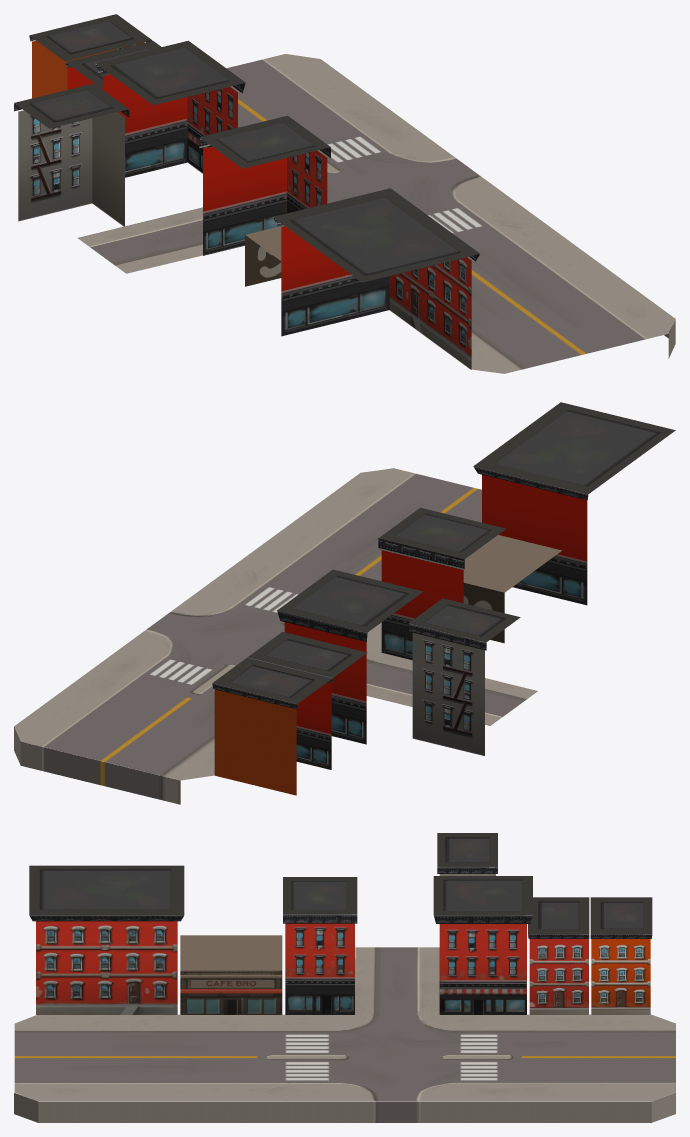
File: building_new.fbx
The picture shows the model from 3 angles, top to bottom: view 1: azimuth 30°, elevation 25°; view 2: azimuth 150°, elevation 25°; view 3: azimuth 270°, elevation 25°; orthographic projection. The views are drawn at different scales.
Visible parts, largest first — view 1: Box020, Plane001; view 2: Box020, Plane001, Plane002; view 3: Box020, Plane001, Plane002.
Part boxes in pixels (left/top/right/bottom): Box020: left=14, top=14, right=479, bottom=369; Plane001: left=78, top=54, right=675, bottom=373; Box020: left=212, top=402, right=675, bottom=795; Plane001: left=14, top=468, right=537, bottom=780; Plane002: left=14, top=468, right=391, bottom=804; Box020: left=29, top=833, right=652, bottom=1014; Plane001: left=14, top=947, right=675, bottom=1101; Plane002: left=14, top=1093, right=675, bottom=1122.
Size of the model in its own units: 513 by 177 by 861.
